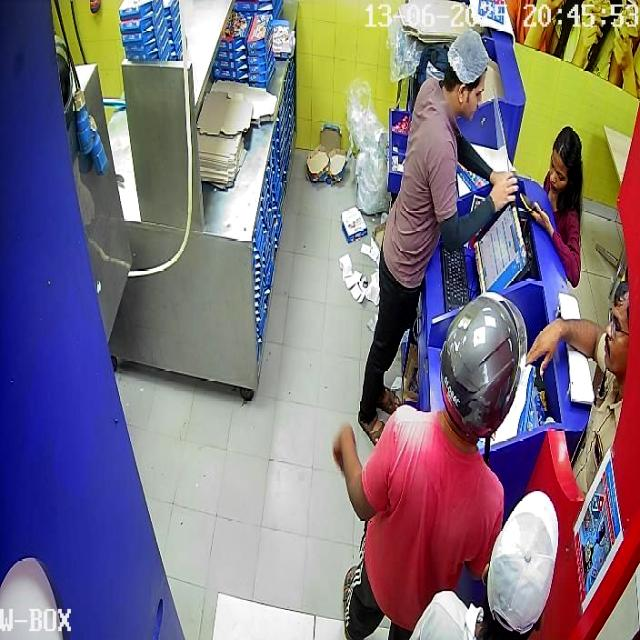helmet: (440, 291, 525, 439)
